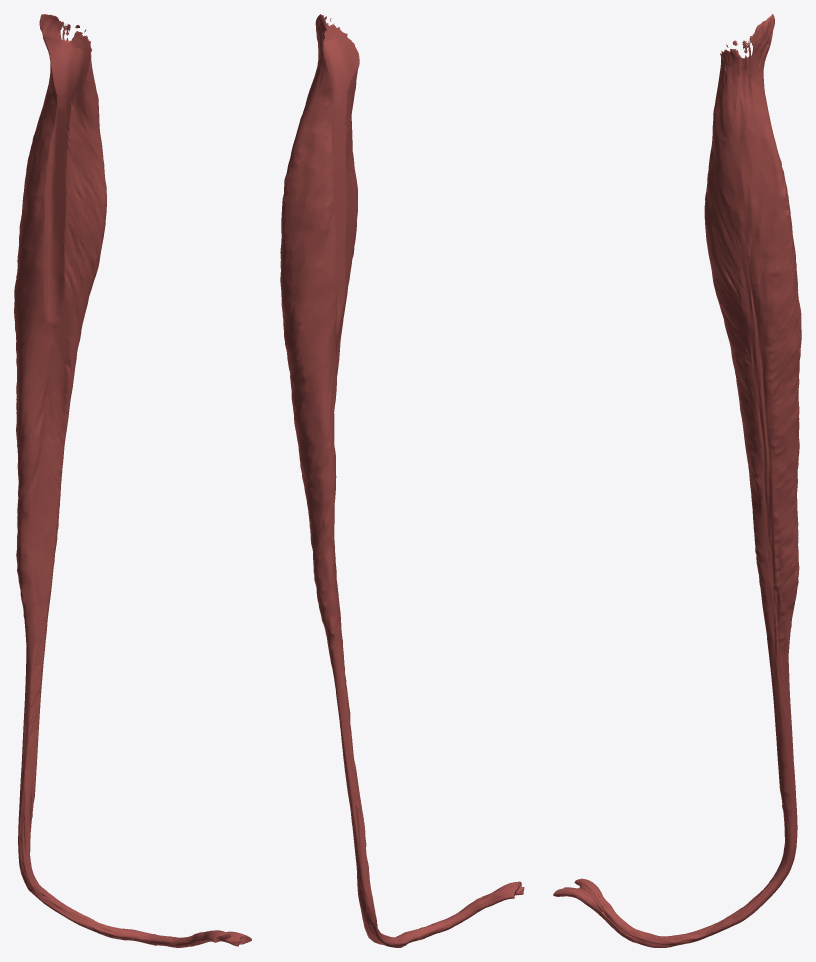
Rendered from FMA22553.glb.
3 renders of one model, left to right at view 1: azimuth 90°, elevation 25°; view 2: azimuth 150°, elevation 25°; view 3: azimuth 270°, elevation 25°, orthographic. The views are drawn at different scales.
Parts seen in each view (by area): view 1: FMA22553; view 2: FMA22553; view 3: FMA22553.
Boxes of the visible parts, x1=… form: FMA22553: x1=14, y1=14, x2=251, y2=947; FMA22553: x1=280, y1=14, x2=524, y2=947; FMA22553: x1=553, y1=14, x2=801, y2=947.
Size of the model in its own units: 0.0569 by 0.367 by 0.0867.
